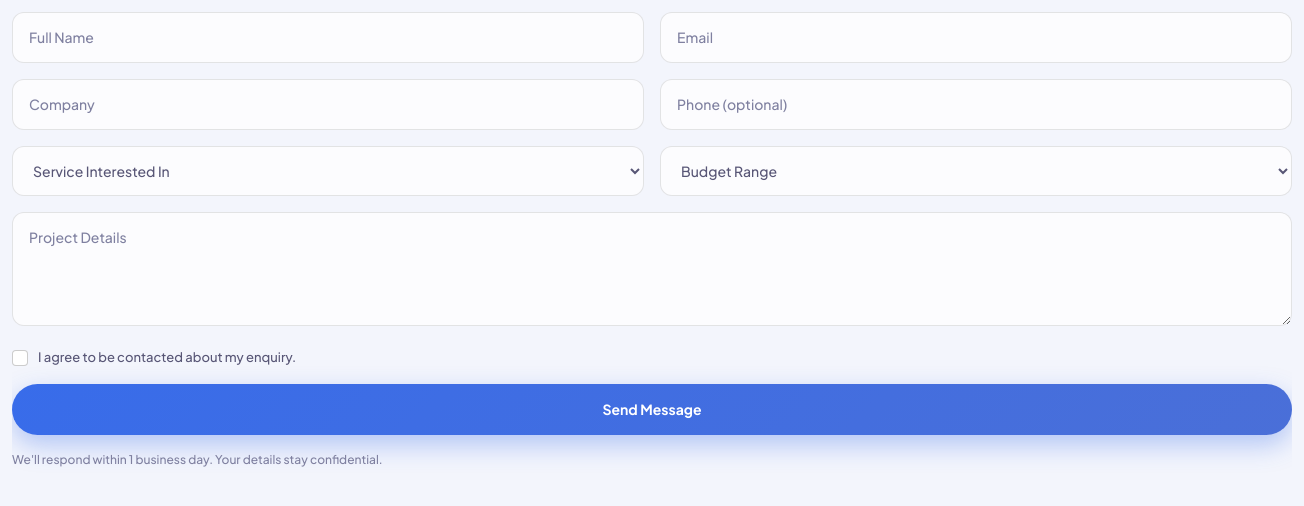
ContactForm › shows a client-side error after a field is touched and left invalid
This screenshot has width=1304, height=506.
Type "A" into the field with placeholder "Full Name".
click(328, 38); type("A")  # box [12, 12, 644, 63]
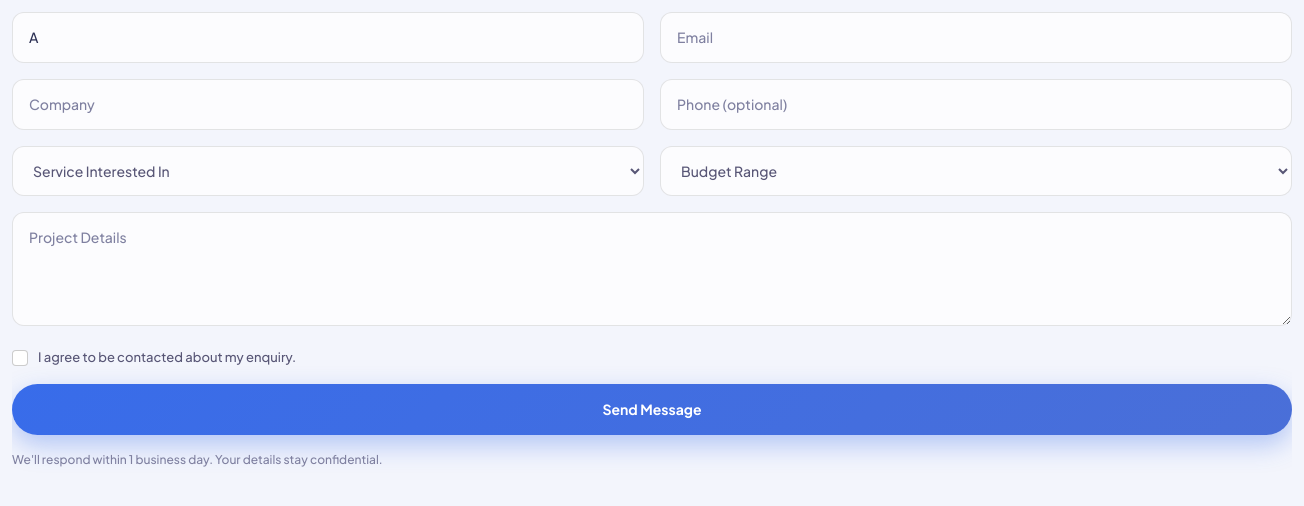
Leave the field with placeholder "Full Name", box [12, 12, 644, 63]
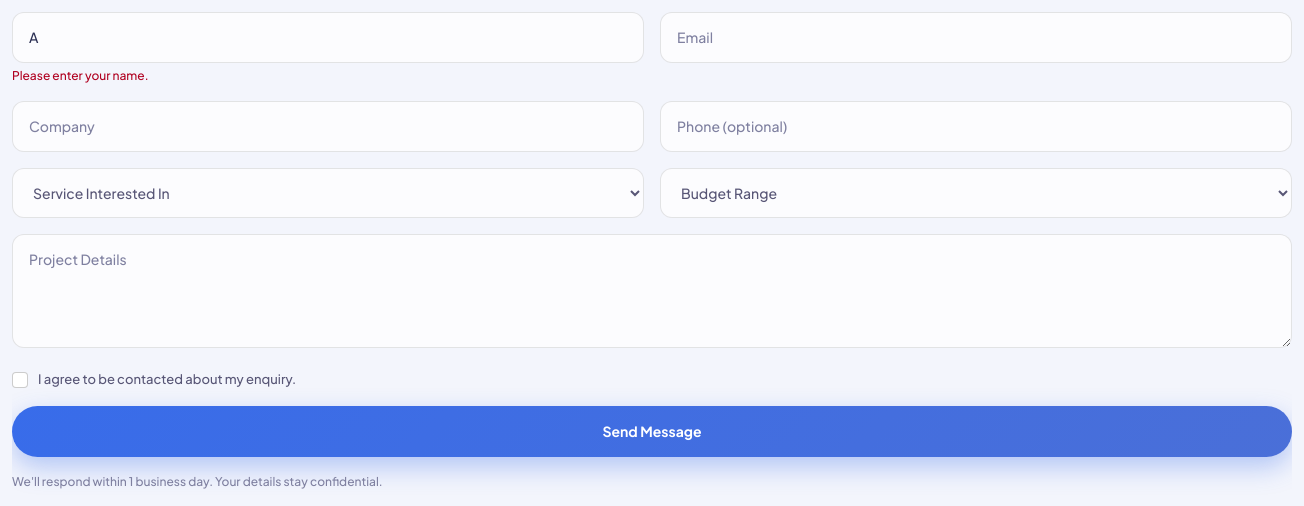
Expected: the text "Please enter your name." is shown, [12, 68, 148, 83]
